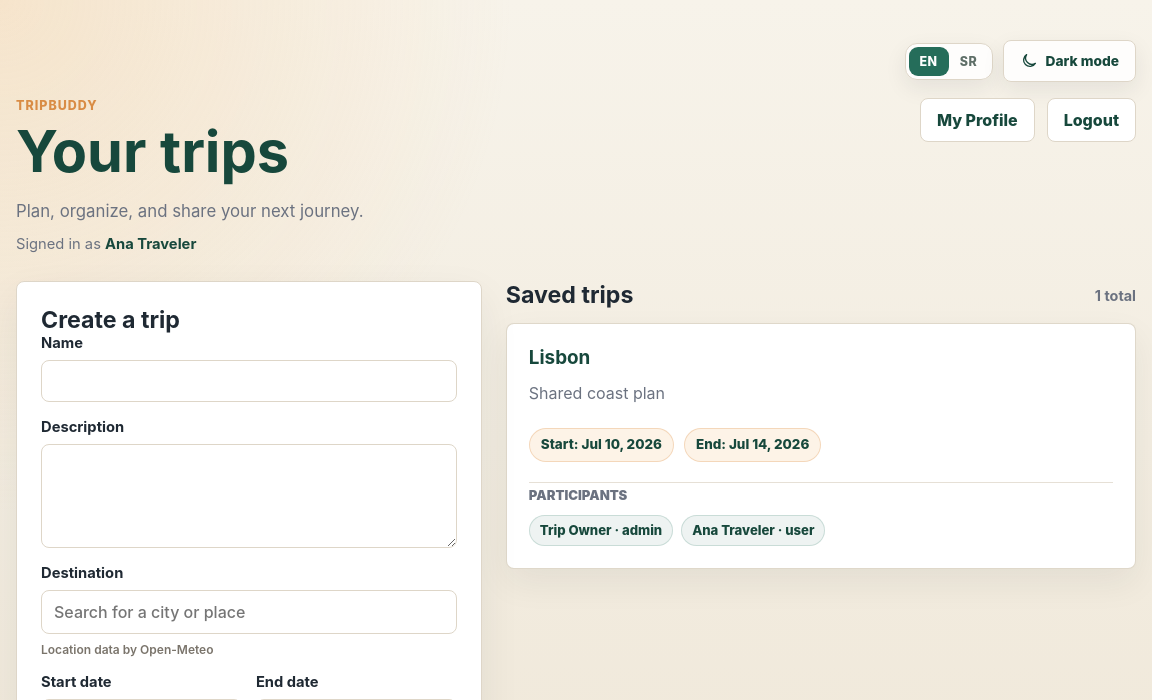
Test case: TripBuddy frontend › gives a trip user contribution controls without admin controls
Click the button "Lisbon". click: {"x": 821, "y": 446}
box: x1=506 y1=323 x2=1136 y2=569
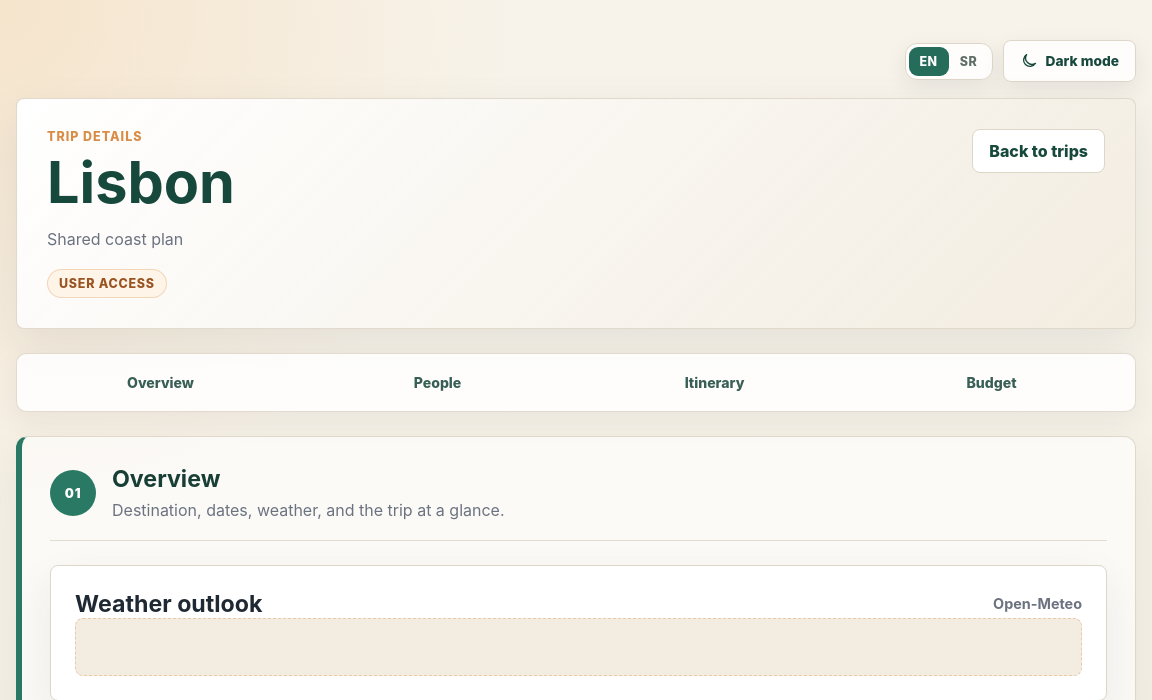
Now the text "user access" is shown, box x1=47 y1=269 x2=167 y2=298
